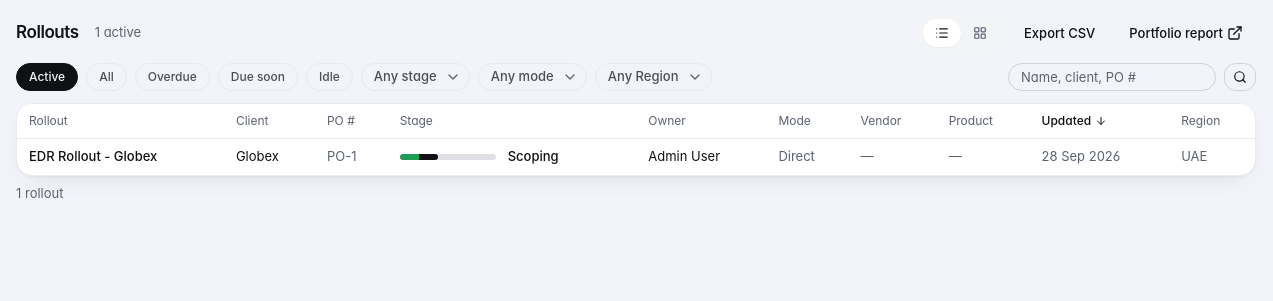
Test: Projects › switches between the table and cards, and remembers it
The width and height of the screenshot is (1273, 301).
Expected: the table is shown, [17,104,1255,174]
Click the 2nd radio button named "Cards".
click(980, 33)  # box [961,19,999,47]
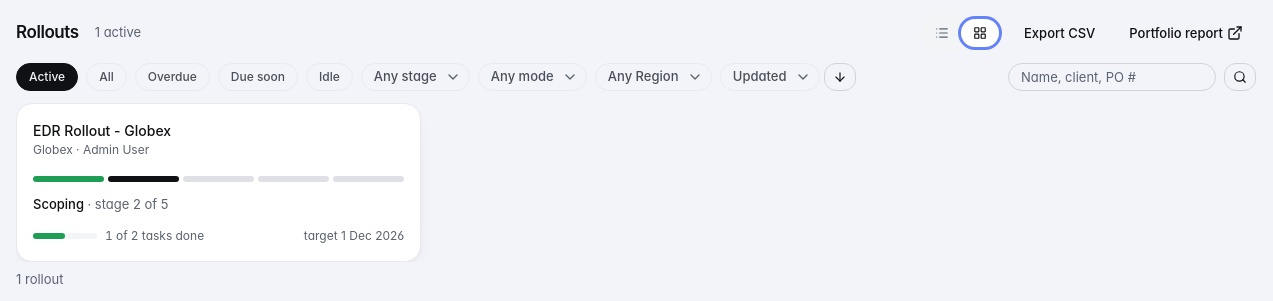
Expected: the list named "Rollouts" is shown, [16,103,421,262]
Expected: the text "1 of 2 tasks done" is shown, [105,226,204,244]
Expected: the dropdown named "Sort by" is shown, [720,63,820,91]
Click the 1st radio button named "Table".
click(942, 33)  # box [923,19,961,47]
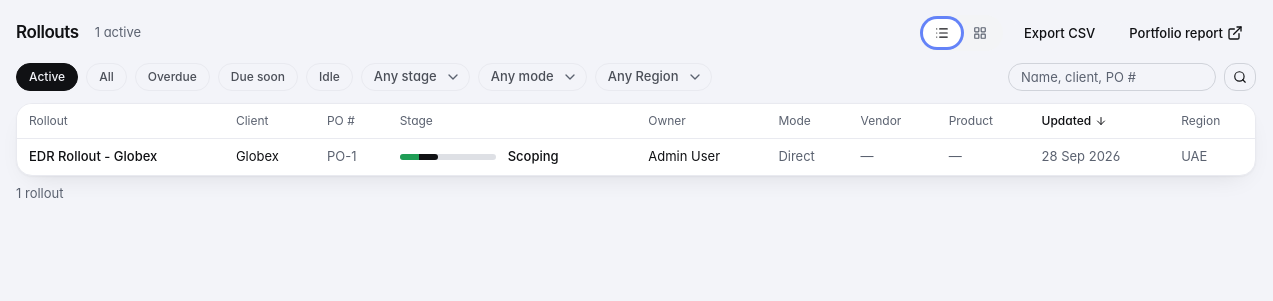
Expected: the table is shown, [17,104,1255,174]
